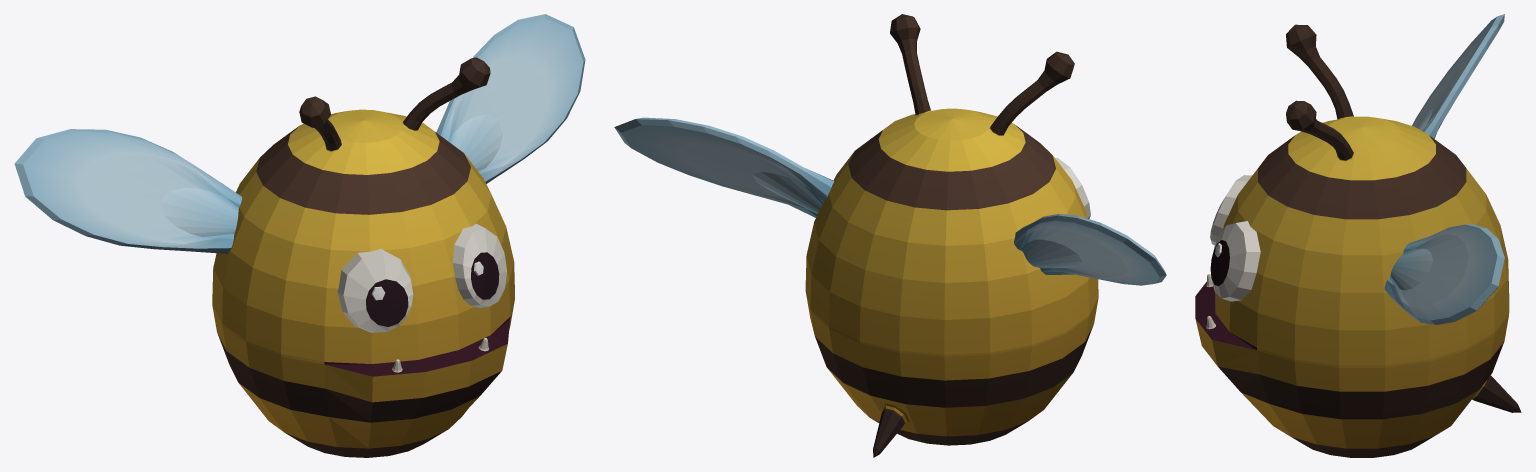
Rendered from Bee.glb.
3 renders of one model, left to right at view 1: azimuth 30°, elevation 25°; view 2: azimuth 150°, elevation 25°; view 3: azimuth 270°, elevation 25°, orthographic. The views are drawn at different scales.
Parts seen in each view (by area): view 1: Body, Wing_R, Wing_L; view 2: Body, Wing_L, Wing_R; view 3: Body, Wing_L, Wing_R.
Boxes of the visible parts, <box> form: Body: <box>212,57,514,457</box>; Wing_R: <box>14,129,242,253</box>; Wing_L: <box>436,14,585,183</box>; Body: <box>805,14,1098,457</box>; Wing_L: <box>614,117,834,217</box>; Wing_R: <box>1014,213,1166,285</box>; Body: <box>1195,24,1521,457</box>; Wing_L: <box>1384,224,1504,324</box>; Wing_R: <box>1412,14,1504,138</box>.
Bounding box in the file's own units: 2.81 × 1.87 × 1.44.
